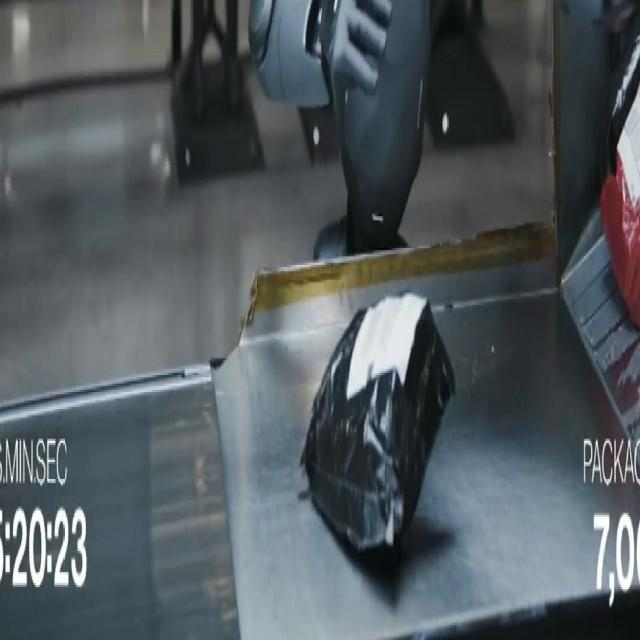package: (302, 295, 454, 550), (600, 39, 639, 326)
